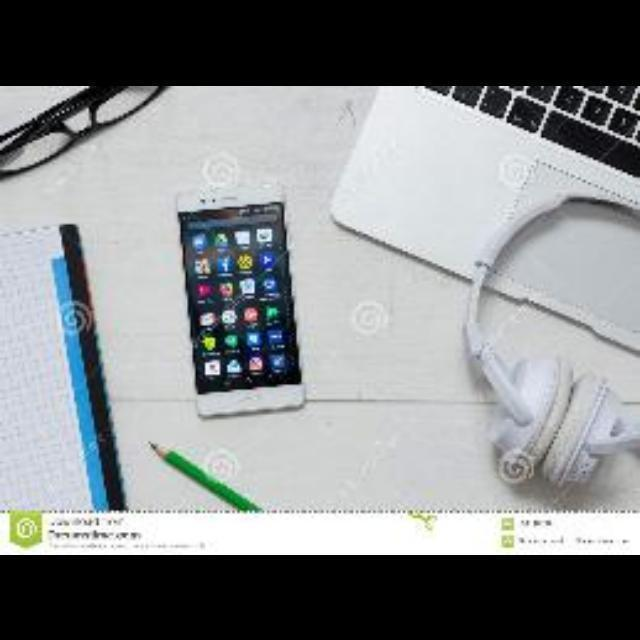phone: (181, 200, 301, 403)
